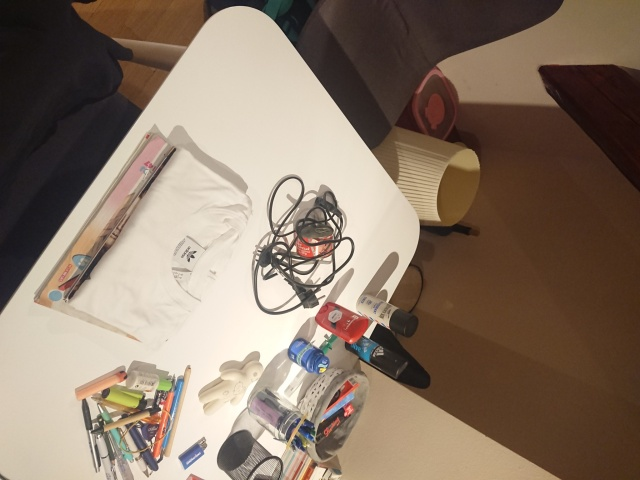Podravka Luncheon Meat 150g: (293, 222, 337, 261)
